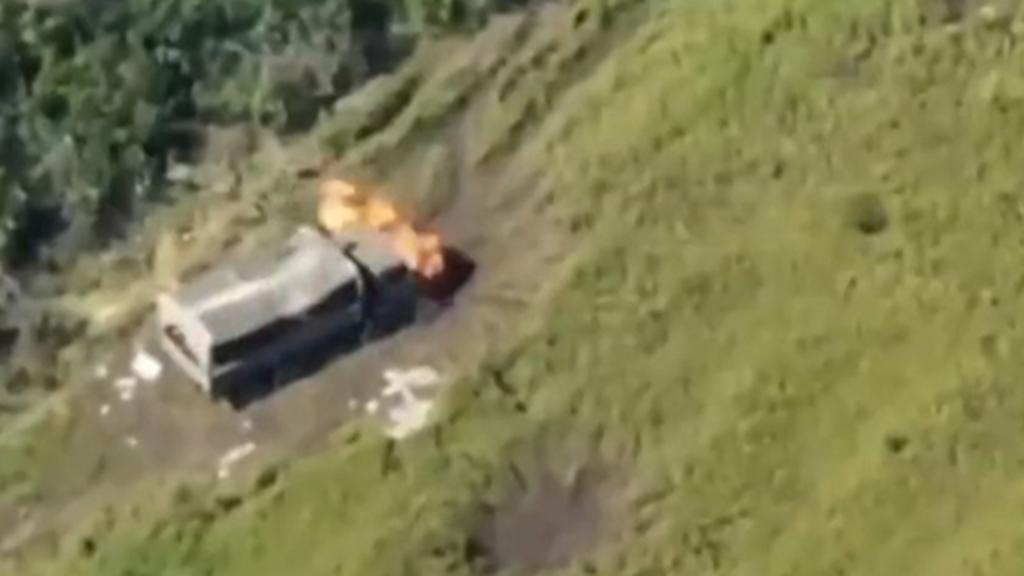TRUCK: (150, 214, 416, 406)
